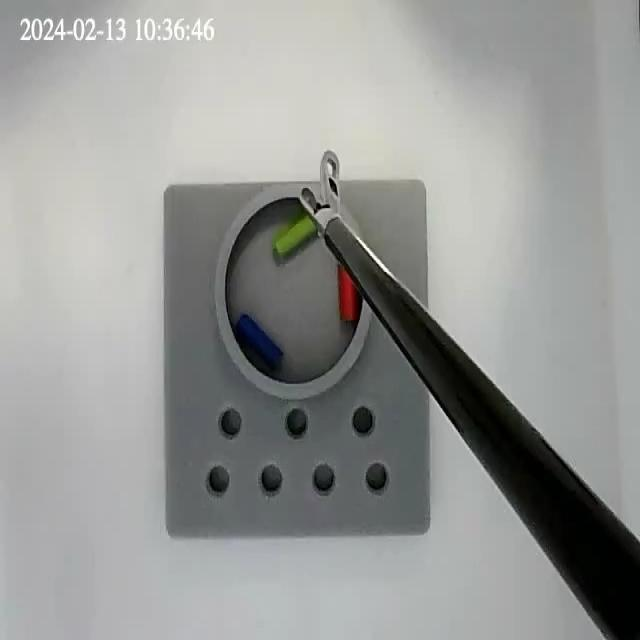EmptyHole: (364, 456, 389, 495), (217, 404, 242, 442), (349, 402, 375, 438), (311, 461, 336, 498), (259, 460, 283, 495), (207, 462, 230, 498), (284, 409, 309, 438)
